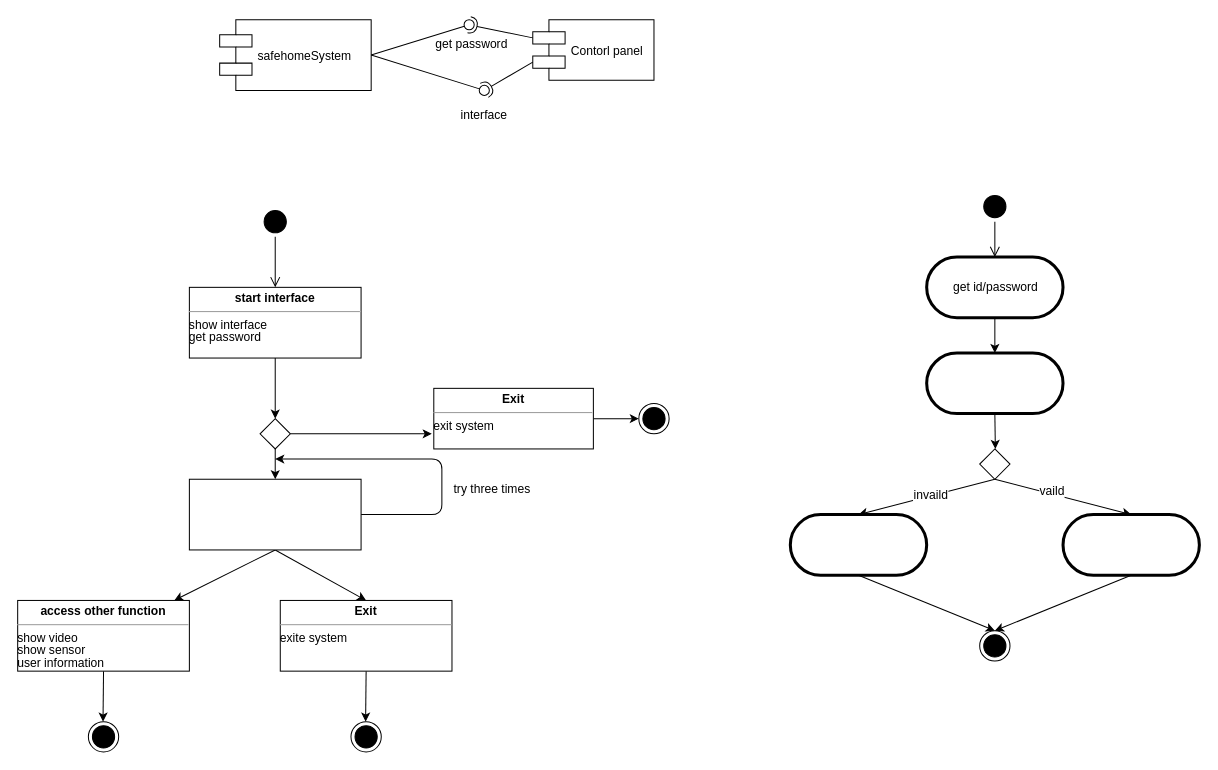
The diagram is 1218 pixels wide and 770 high, and some of its shapes have lost their labels. The centre of each missing label's shape, as x and y in pixels:
"check id/password" belongs at pixel 994 383.
"return False" belongs at pixel 1130 544.
"return True" belongs at pixel 858 544.
"sign up show interface get password lock system" belongs at pixel 274 514.
